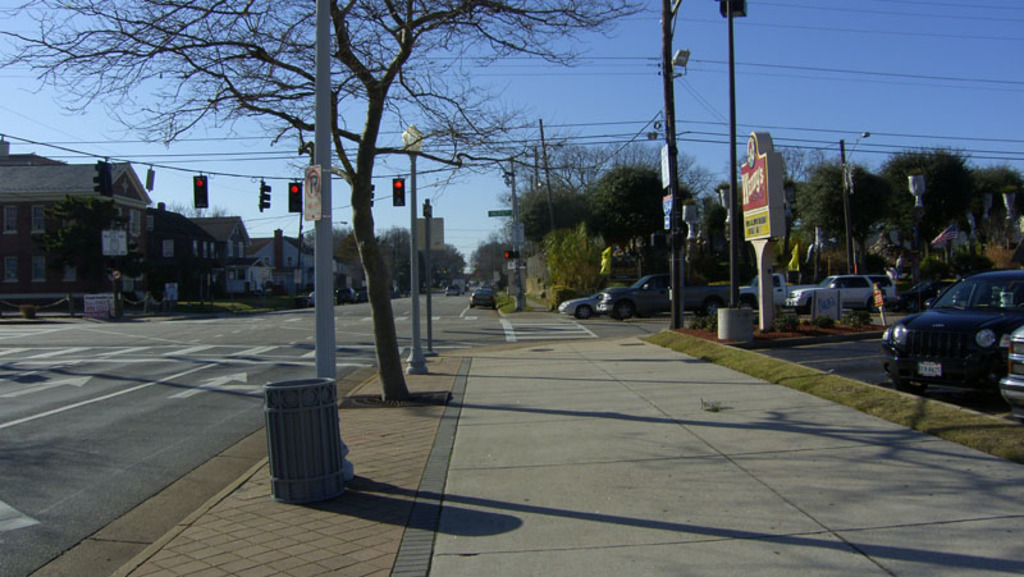Car: (880, 269, 1022, 409), (897, 278, 958, 312), (555, 290, 606, 322), (468, 285, 496, 312), (339, 285, 357, 303), (303, 290, 312, 308), (445, 284, 458, 296)
